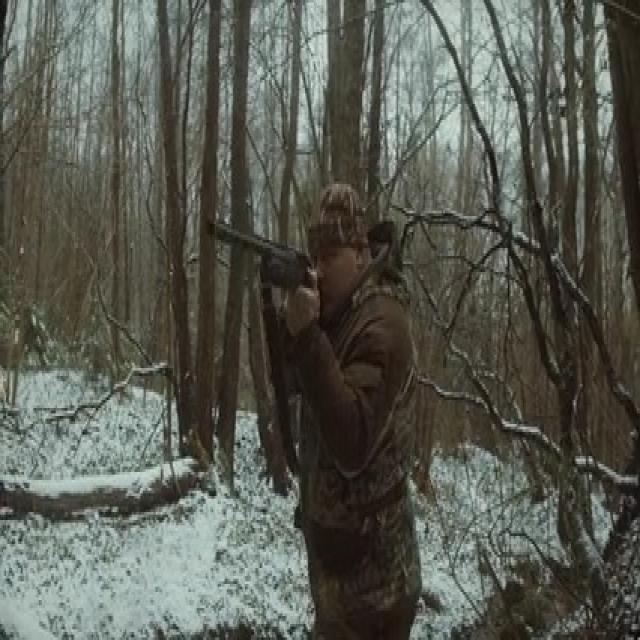Gun_Holder: (203, 216, 322, 339)
Person: (275, 176, 421, 640)
